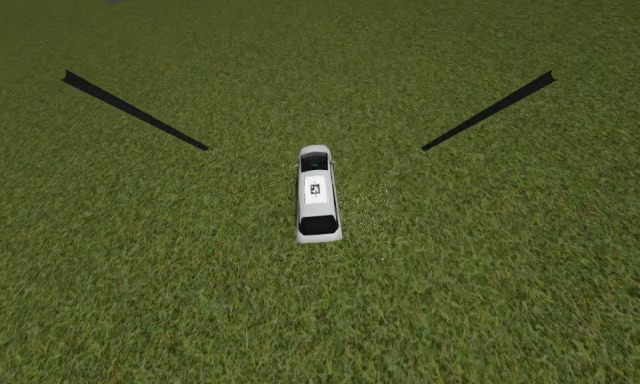Car: (297, 145, 343, 244)
Landing Pad: (304, 176, 328, 204)
